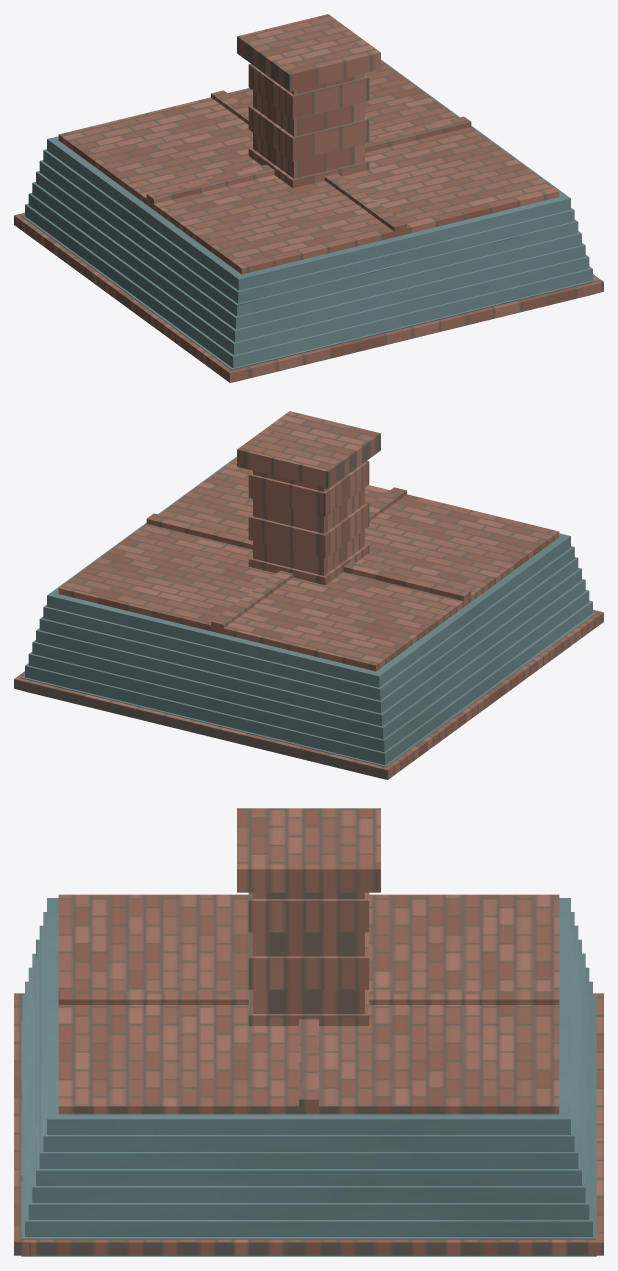
The model's file is med_chimney.glb.
3 renders of one model, top to bottom at view 1: azimuth 30°, elevation 25°; view 2: azimuth 150°, elevation 25°; view 3: azimuth 270°, elevation 25°, orthographic. The views are drawn at different scales.
Visible parts, largest first — view 1: med_chimney; view 2: med_chimney; view 3: med_chimney.
Part boxes in pixels (x1=…): med_chimney: x1=14, y1=14, x2=603, y2=382; med_chimney: x1=14, y1=411, x2=603, y2=779; med_chimney: x1=14, y1=808, x2=603, y2=1256.
Size of the model in its own units: 4.1 by 2.27 by 4.1.
Materials: 1 (1 with a texture image).
